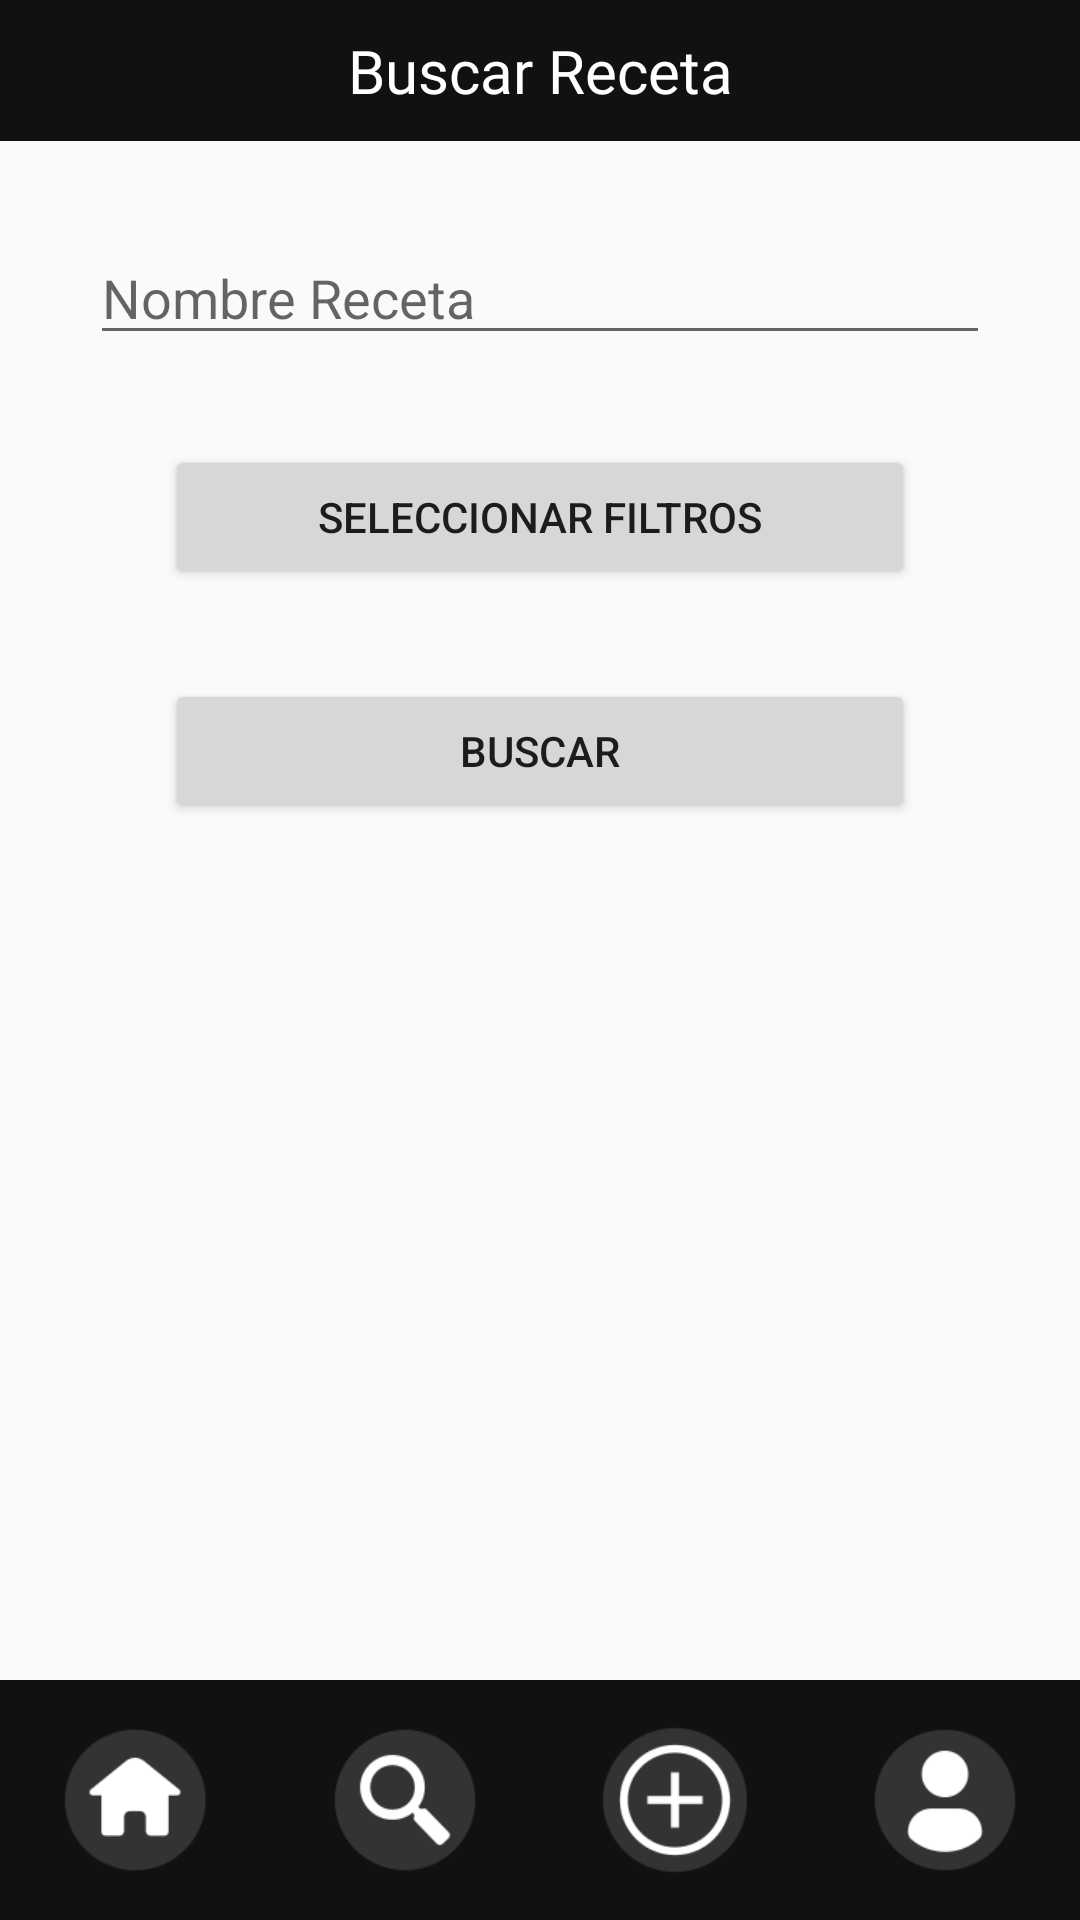

Icon bounding boxes for this 1080 × 1920 phone screenshot, format (x1, y1, x2, y2):
agregar: (603, 1728, 746, 1871)
perfil us: (875, 1730, 1015, 1870)
